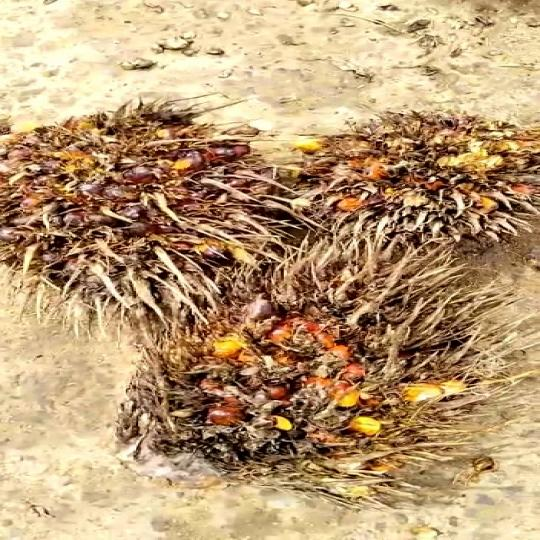terlalu masak: (101, 247, 505, 492), (278, 112, 534, 247)
